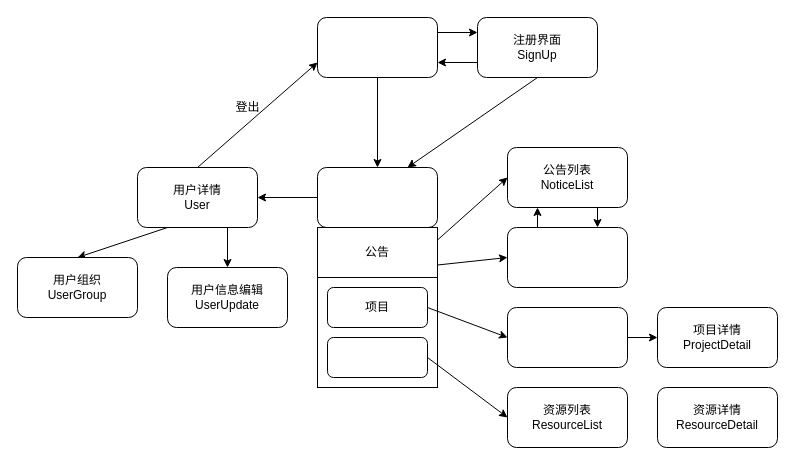
The diagram is 795 pixels wide and 465 high, and some of its shapes have lost their labels. The shapes that lost their labels are listed below. From the top down, each one's centre as x and y in pixels, then its label:
the point at 377,47: 登录界面 SignIn
the point at 377,197: 主界面 Index
the point at 567,257: 公告详情 NoticceDetail
the point at 377,357: 资源
the point at 567,337: 项目列表 ProjectList
